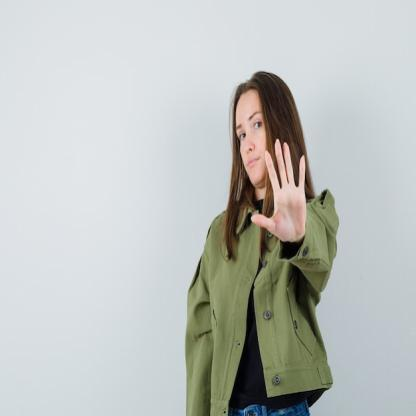stop: (248, 134, 310, 244)
